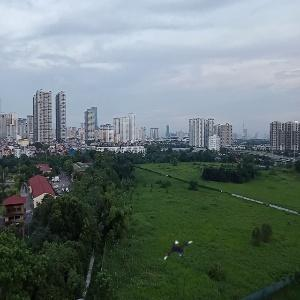drone: (164, 236, 201, 273)
